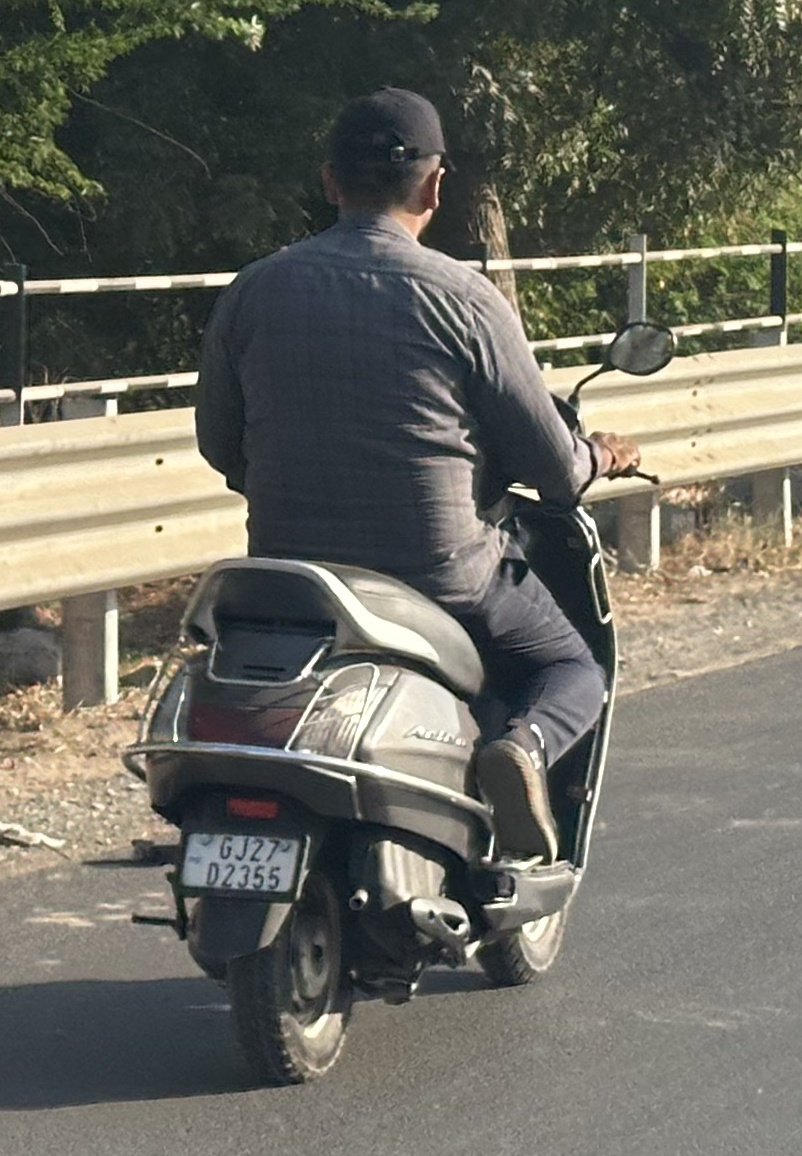BikeWithRider: (66, 45, 721, 1081)
NoHelmet: (292, 65, 483, 243)
